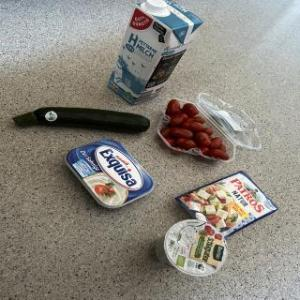tomato: (205, 144, 234, 162), (169, 125, 195, 143), (179, 119, 208, 133), (164, 95, 182, 117)
zucchini: (11, 100, 153, 142)
